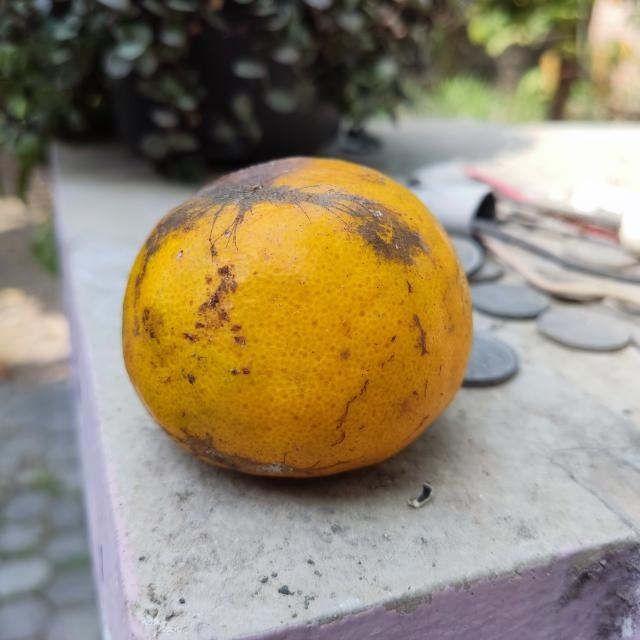agrume: (122, 155, 476, 480)
